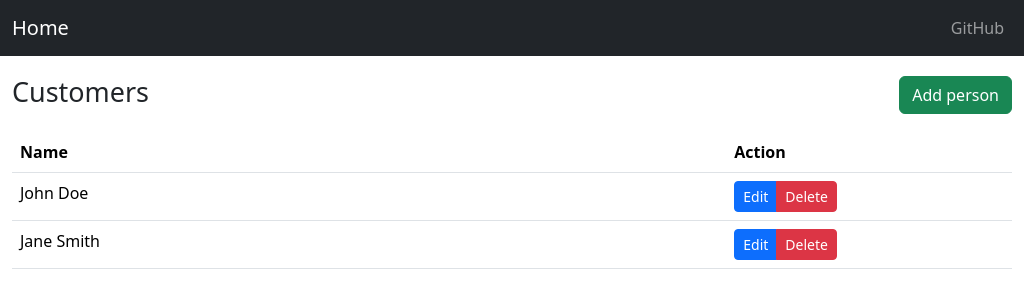
handles delete action correctly
Expected: the text "John Doe" is shown, [12, 173, 726, 221]
Click the delete button for John Doe
Click the button "Delete" in the row of "John Doe".
click(807, 197)  # box [776, 181, 837, 212]
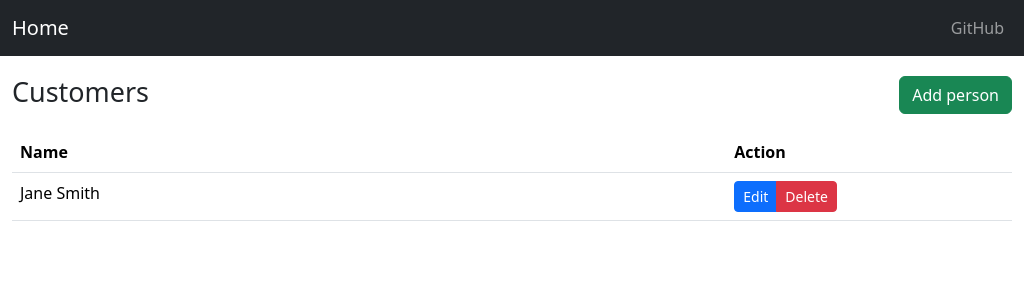
Expected: the text "John Doe" is gone
